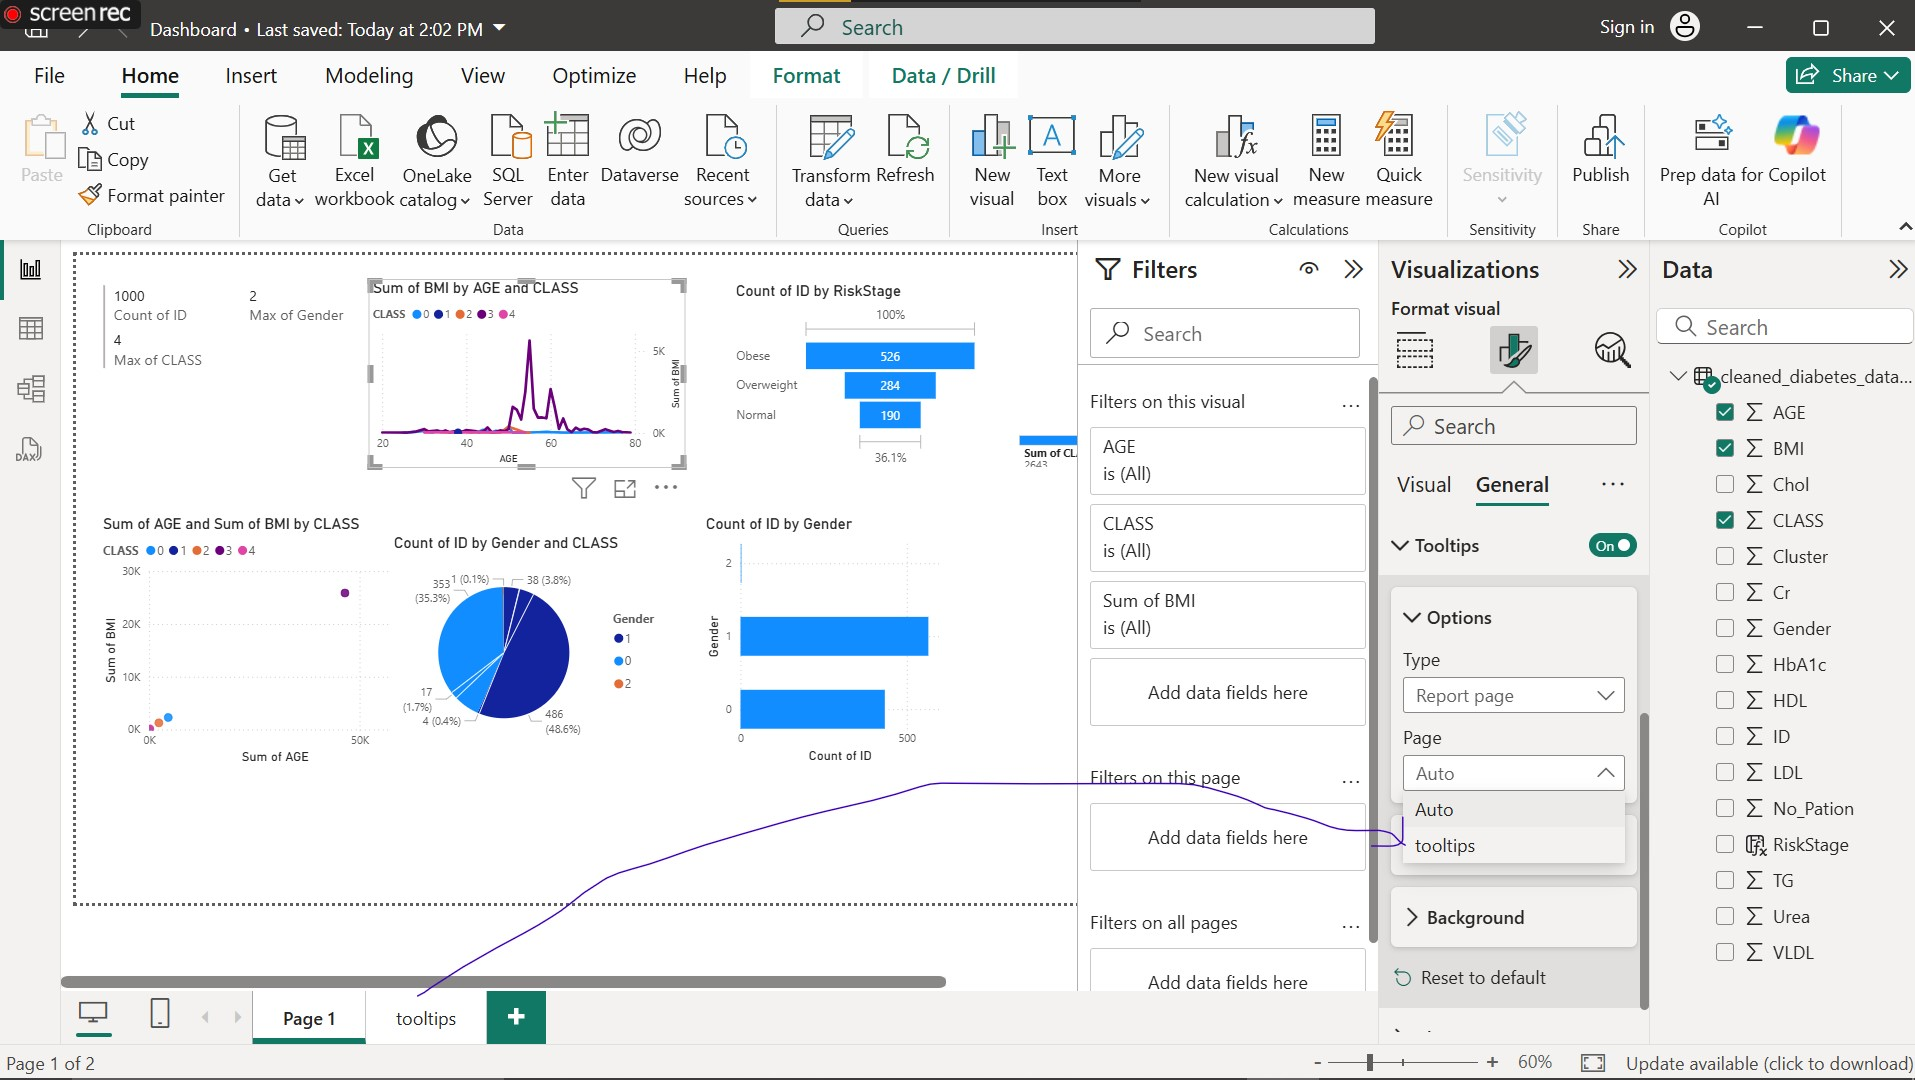

This screenshot's page, from the dashboard's own definition file:
{"tool":"powerbi","page":{"name":"Page 1","canvas":[1280,720],"ordinal":0},"visuals":[{"type":"barChart","fields":{"Category":["cleaned_diabetes_dataset.Gender"],"Y":["CountNonNull(cleaned_diabetes_dataset.ID)"]},"box":[897.6,309.9,279.7,279.7],"z":0},{"type":"scatterChart","fields":{"X":["Sum(cleaned_diabetes_dataset.AGE)"],"Y":["Sum(cleaned_diabetes_dataset.BMI)"],"Series":["cleaned_diabetes_dataset.CLASS"]},"box":[24.6,289.1,351.5,281.6],"z":1000},{"type":"multiRowCard","fields":{"Values":["CountNonNull(cleaned_diabetes_dataset.ID)","Max(cleaned_diabetes_dataset.Gender)","Max(cleaned_diabetes_dataset.CLASS)"]},"box":[24.6,28.3,323.2,209.8],"z":2000},{"type":"pieChart","fields":{"Category":["cleaned_diabetes_dataset.Gender"],"Y":["CountNonNull(cleaned_diabetes_dataset.ID)"],"Series":["cleaned_diabetes_dataset.CLASS"]},"box":[480,326.9,319.4,243.8],"z":3000},{"type":"lineChart","fields":{"Category":["cleaned_diabetes_dataset.AGE"],"Y2":["Sum(cleaned_diabetes_dataset.BMI)"],"Series":["cleaned_diabetes_dataset.CLASS"]},"box":[447.9,28.3,351.5,209.8],"z":4000},{"type":"funnel","fields":{"Category":["cleaned_diabetes_dataset.RiskStage"],"Y":["CountNonNull(cleaned_diabetes_dataset.ID)"]},"box":[898,28,280,210],"z":4001}]}

Visuals, with their boxes on the page's 1280x720 design canvas (x1, y1, x2, y2). These are canvas units, not pixel positions in the 1915x1080 screenshot, which may show the page scaled, cropped or inside an application window:
barChart - cleaned_diabetes_dataset.Gender x CountNonNull(cleaned_diabetes_dataset.ID): <region>898, 310, 1177, 590</region>
scatterChart - Sum(cleaned_diabetes_dataset.AGE) x Sum(cleaned_diabetes_dataset.BMI): <region>25, 289, 376, 571</region>
multiRowCard - CountNonNull(cleaned_diabetes_dataset.ID) x Max(cleaned_diabetes_dataset.Gender): <region>25, 28, 348, 238</region>
pieChart - cleaned_diabetes_dataset.Gender x CountNonNull(cleaned_diabetes_dataset.ID): <region>480, 327, 799, 571</region>
lineChart - cleaned_diabetes_dataset.AGE x Sum(cleaned_diabetes_dataset.BMI): <region>448, 28, 799, 238</region>
funnel - cleaned_diabetes_dataset.RiskStage x CountNonNull(cleaned_diabetes_dataset.ID): <region>898, 28, 1178, 238</region>
